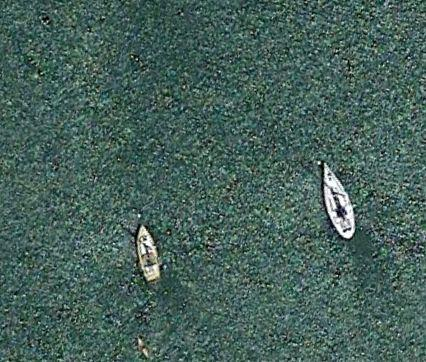Ships: (305, 156, 372, 246), (132, 216, 173, 285)
